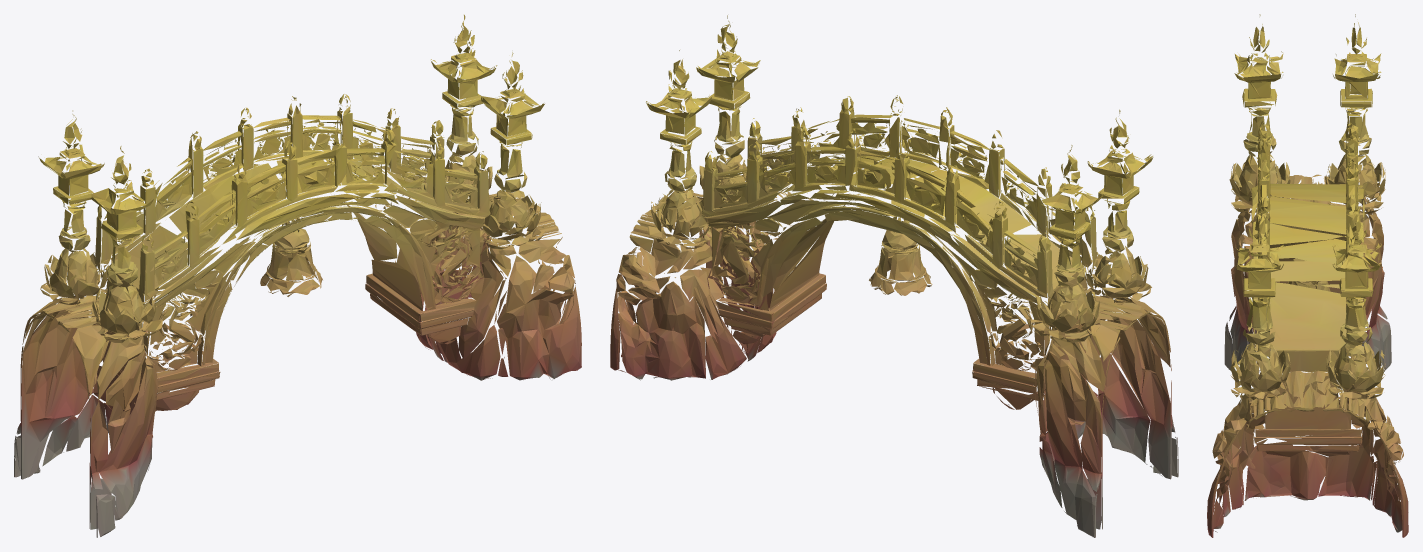
The model's file is building_bridge.glb.
3 views of the same model, side by side, from view 1: azimuth 30°, elevation 25°; view 2: azimuth 150°, elevation 25°; view 3: azimuth 270°, elevation 25° (orthographic).
Visible parts, largest first — view 1: world; view 2: world; view 3: world.
Part boxes in pixels (left/top/right/bottom): world: left=14, top=14, right=581, bottom=537; world: left=610, top=15, right=1178, bottom=537; world: left=1207, top=14, right=1408, bottom=537.
Bounding box in the file's own units: 0.938 × 0.6946 × 0.3435.
